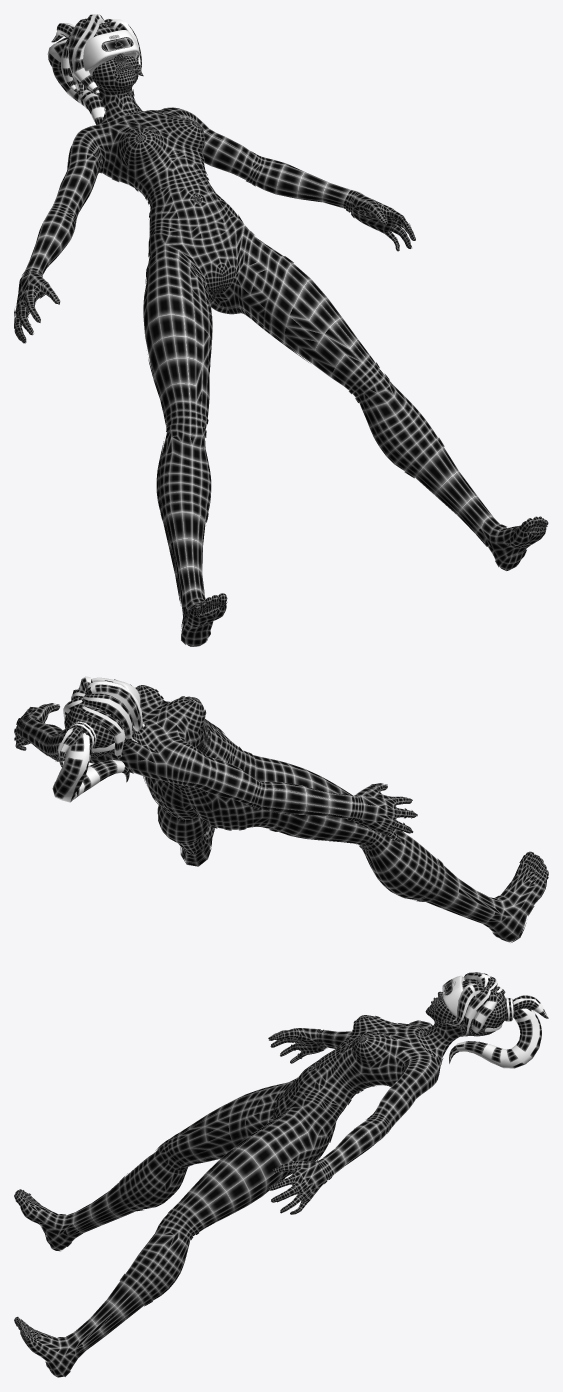
The model's file is Female.glb.
3 renders of one model, top to bottom at view 1: azimuth 30°, elevation 25°; view 2: azimuth 150°, elevation 25°; view 3: azimuth 270°, elevation 25°, orthographic. The views are drawn at different scales.
Visible parts, largest first — view 1: _rootJoint; view 2: _rootJoint; view 3: _rootJoint.
Part boxes in pixels (x1,y1,x2,y2): _rootJoint: (14, 14, 548, 646); _rootJoint: (14, 676, 548, 942); _rootJoint: (14, 972, 548, 1377).
Bounding box in the file's own units: 140 × 139 × 199.
Materials: 1 (1 with a texture image).
